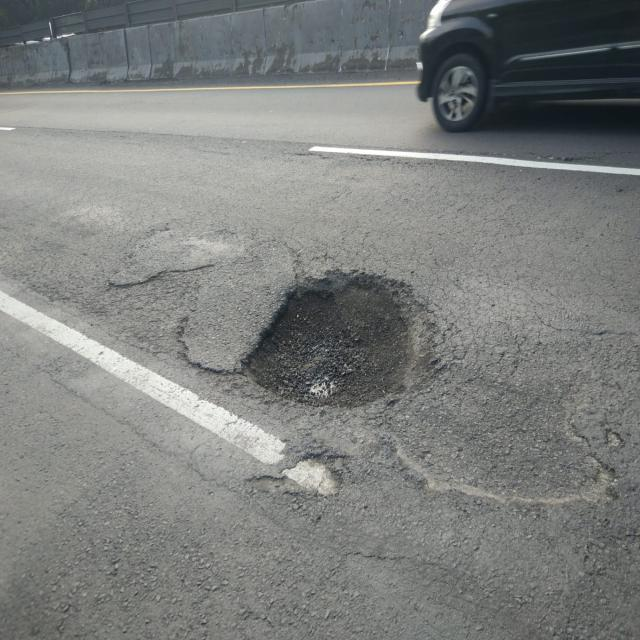Buraco: (236, 267, 442, 413)
